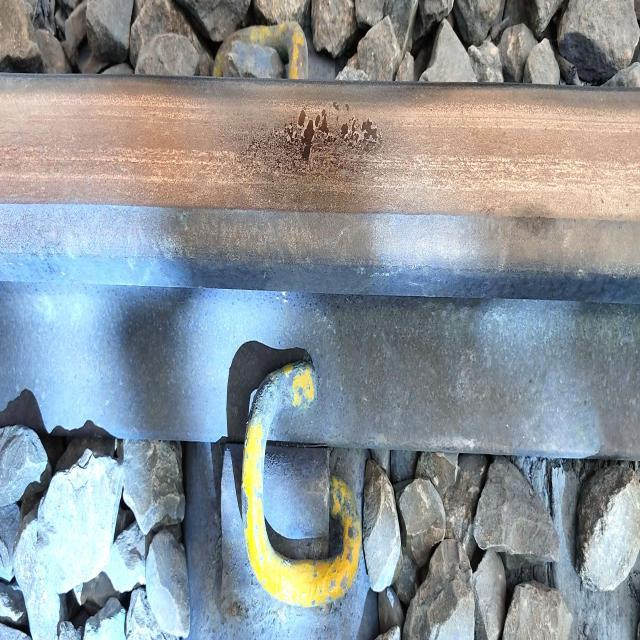Good Fasteners: (220, 360, 370, 640), (213, 21, 309, 79)
